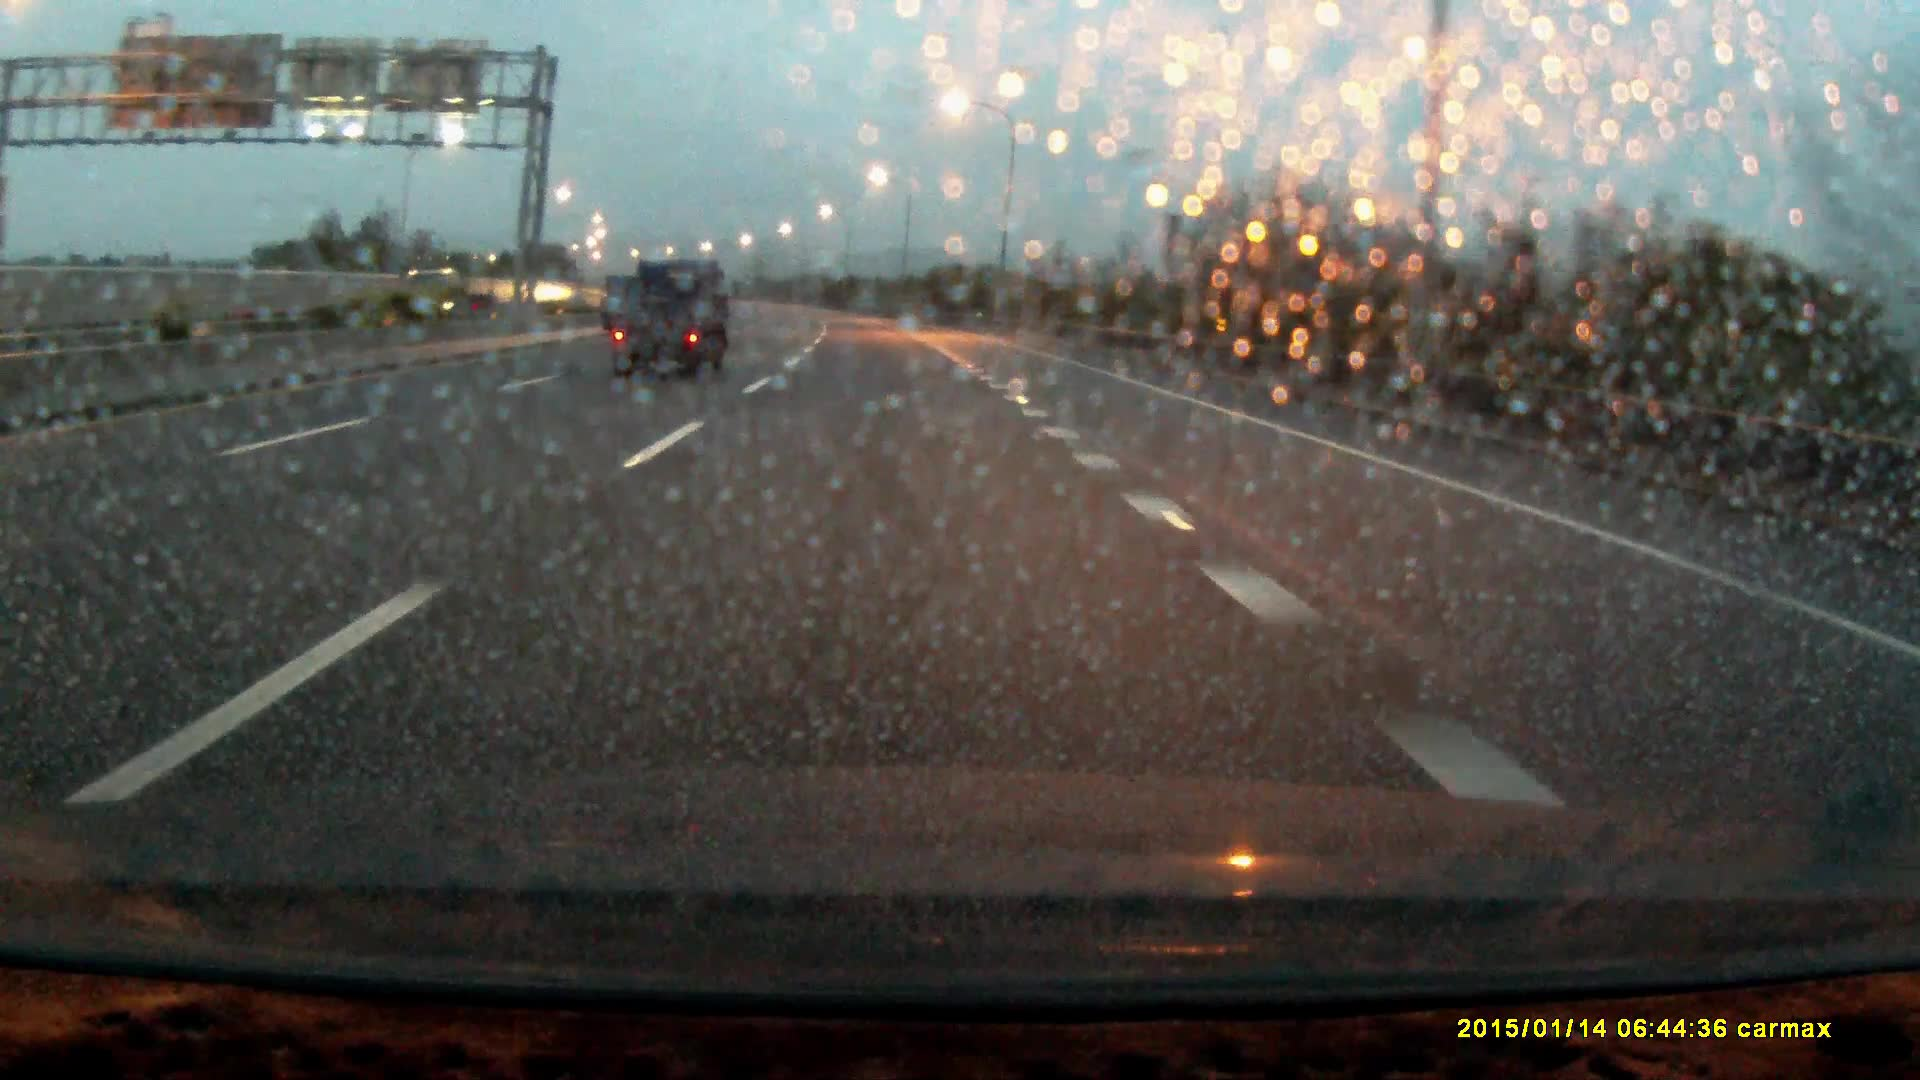vehicle: (609, 258, 733, 380), (406, 266, 509, 316)
